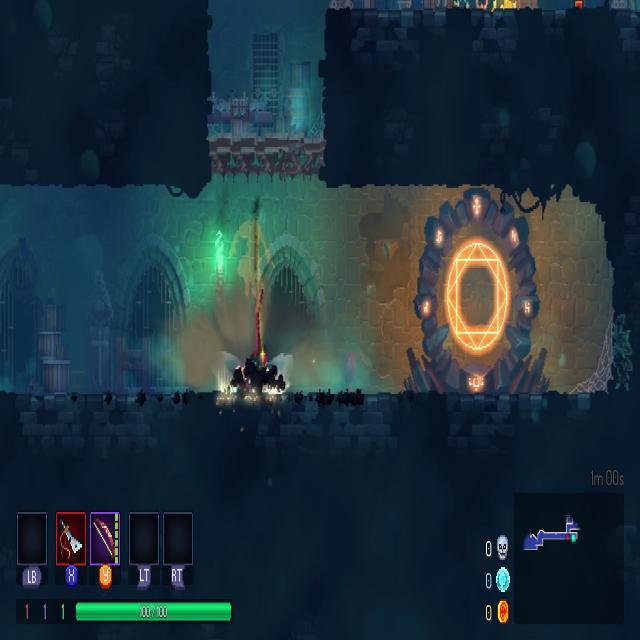agents: (228, 345, 281, 398)
wood_floor: (208, 132, 326, 183)
